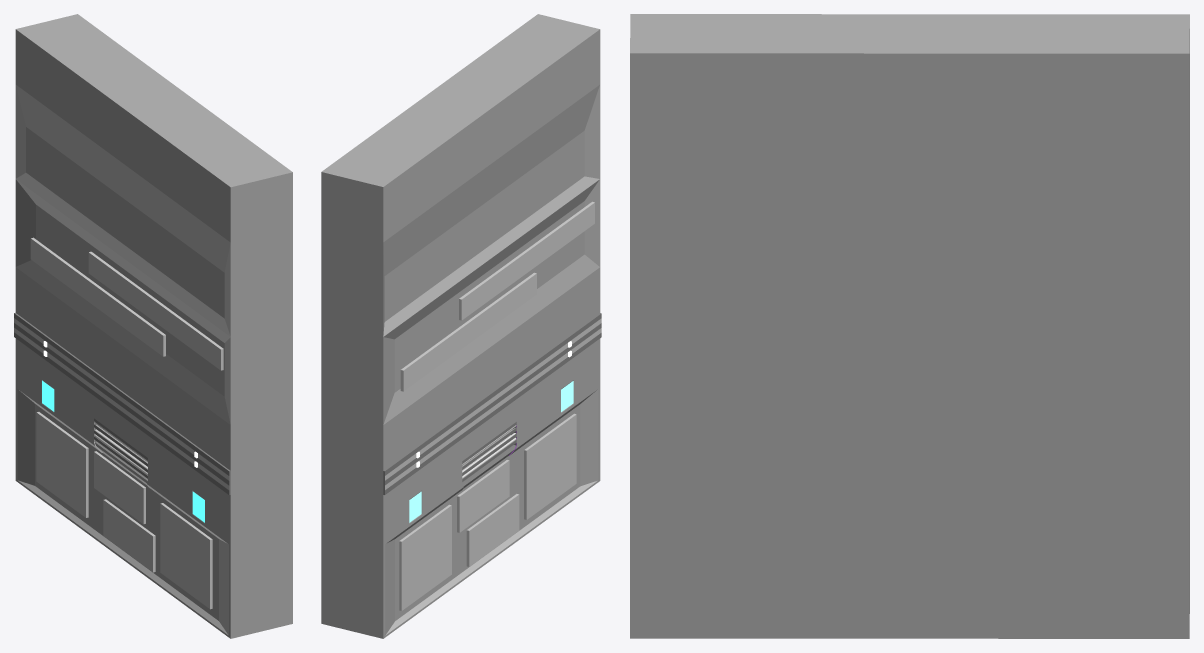
Rendered from 1st hallway wall.fbx.
3 views of the same model, side by side, from view 1: azimuth 30°, elevation 25°; view 2: azimuth 150°, elevation 25°; view 3: azimuth 270°, elevation 25° (orthographic). The views are drawn at different scales.
Parts seen in each view (by area): view 1: Cube.033; view 2: Cube.033; view 3: Cube.033.
Boxes of the visible parts, <box> form: Cube.033: <box>14,14,292,638</box>; Cube.033: <box>321,14,601,638</box>; Cube.033: <box>630,14,1189,638</box>.
Size of the model in its own units: 229 by 1500 by 1300.
